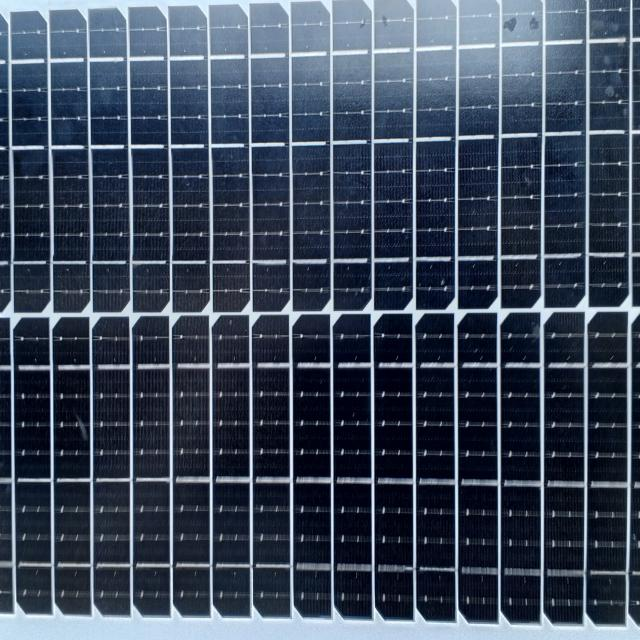Clean: (4, 4, 636, 634)
